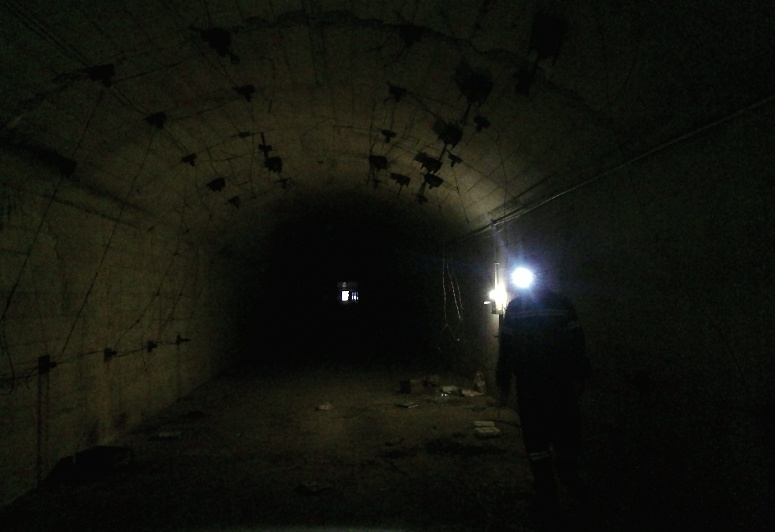person: (491, 256, 601, 506)
